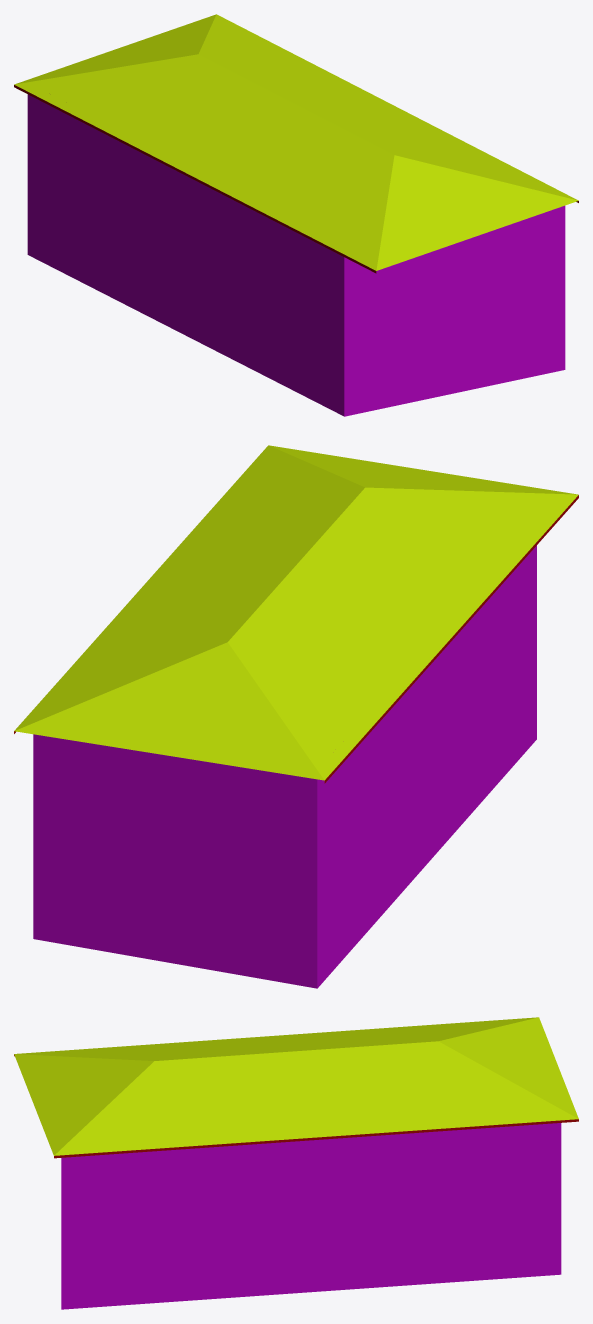
Rendered from bgj_218.glb.
3 views of the same model, one above another, from view 1: azimuth 30°, elevation 25°; view 2: azimuth 150°, elevation 25°; view 3: azimuth 270°, elevation 25° (orthographic). The views are drawn at different scales.
Parts seen in each view (by area): view 1: bgj_218; view 2: bgj_218; view 3: bgj_218.
Part boxes in pixels (left/top/right/bottom): bgj_218: left=14, top=14, right=578, bottom=416; bgj_218: left=14, top=445, right=578, bottom=988; bgj_218: left=14, top=1017, right=578, bottom=1309.
Size of the model in its own units: 14.52 by 9.45 by 25.01.
